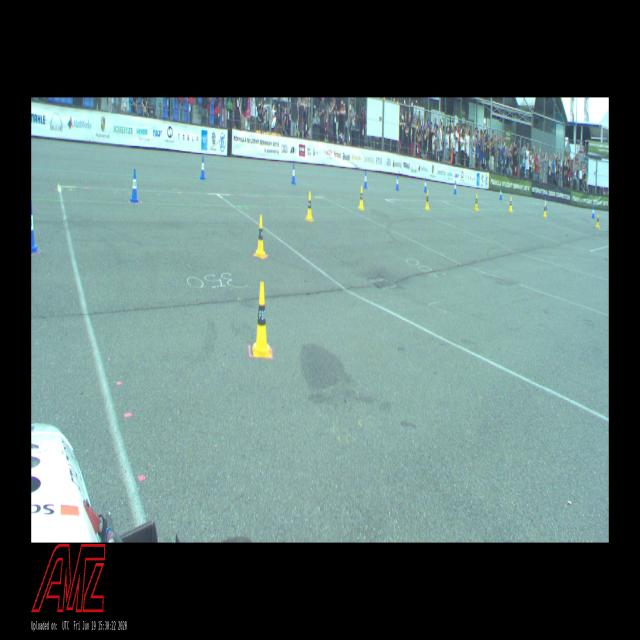blue_cone: (31, 200, 39, 254), (130, 169, 139, 202), (200, 156, 206, 179), (291, 164, 296, 184), (363, 171, 368, 188), (395, 175, 399, 190), (423, 178, 427, 192), (544, 197, 547, 210), (499, 188, 502, 200), (454, 180, 456, 194), (592, 206, 594, 218)
yellow_cone: (252, 282, 271, 357), (254, 215, 266, 258), (306, 191, 314, 222), (358, 186, 364, 209), (425, 190, 429, 209), (474, 193, 478, 211), (596, 214, 600, 228), (543, 203, 547, 216), (509, 196, 512, 212)
